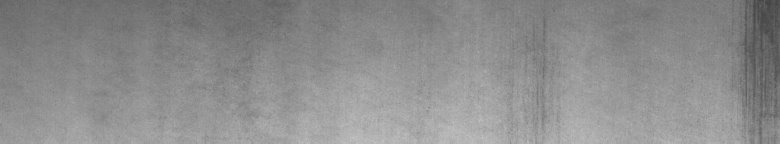ka: (736, 4, 776, 136)
